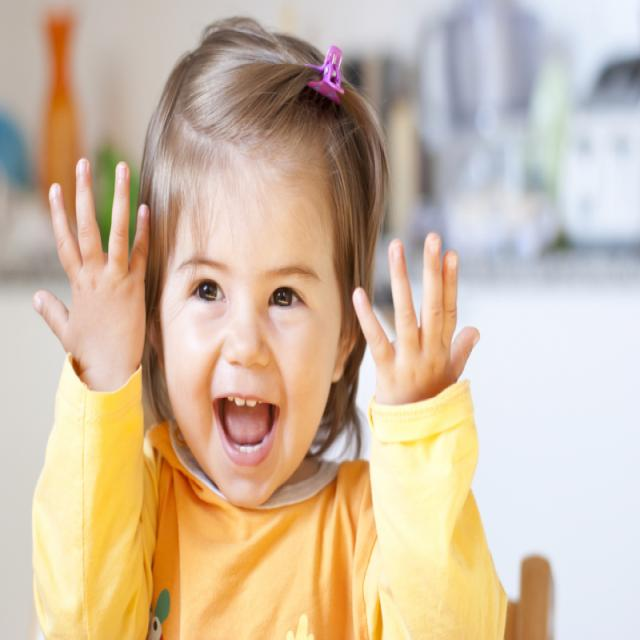child: (34, 15, 509, 640)
